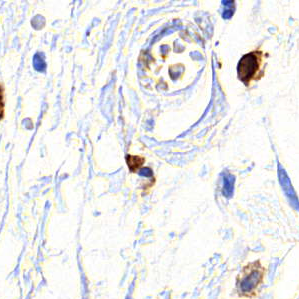Lymphocyte: (236, 51, 266, 89)
